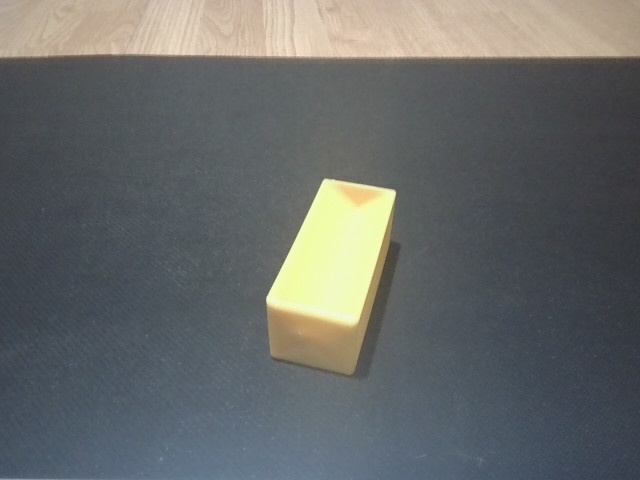YellowSample: (263, 175, 399, 380)
